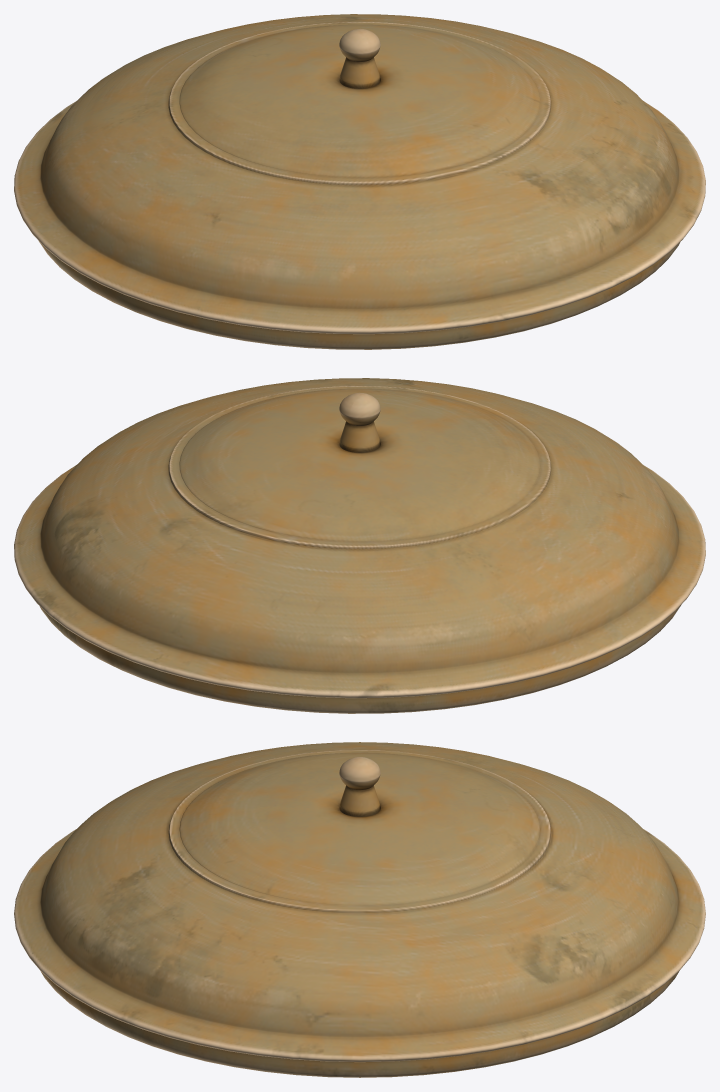
Rendered from SM_Bowl1_T.fbx.
3 renders of one model, top to bottom at view 1: azimuth 30°, elevation 25°; view 2: azimuth 150°, elevation 25°; view 3: azimuth 270°, elevation 25°, orthographic.
Visible parts, largest first — view 1: SM_Bowl1_T; view 2: SM_Bowl1_T; view 3: SM_Bowl1_T.
Part boxes in pixels (x1,y1,x2,y2): SM_Bowl1_T: (14,14,705,349); SM_Bowl1_T: (14,378,705,713); SM_Bowl1_T: (14,742,705,1077).
Bounding box in the file's own units: 13.38 × 3.87 × 13.38.
1 material, 1 textured.
